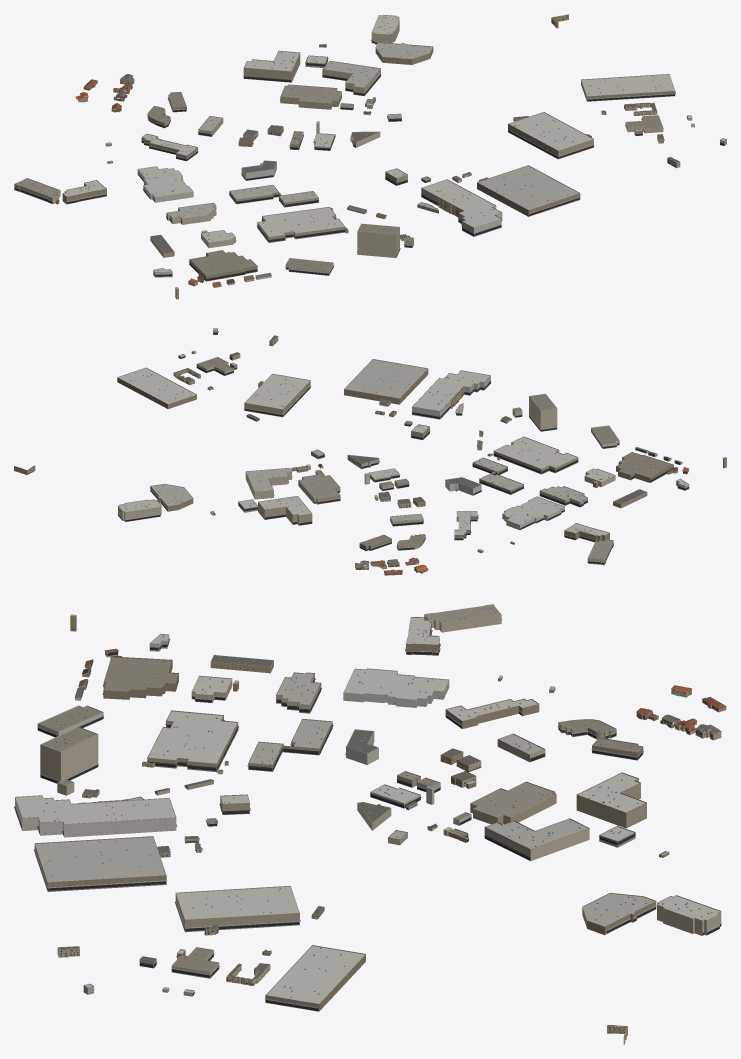
3 renders of one model, top to bottom at view 1: azimuth 30°, elevation 25°; view 2: azimuth 150°, elevation 25°; view 3: azimuth 270°, elevation 25°, orthographic. The views are drawn at different scales.
Visible parts, largest first — view 1: buildings_r3_c6_lod0; view 2: buildings_r3_c6_lod0; view 3: buildings_r3_c6_lod0.
Part boxes in pixels (box(x1,y1,x2,y2)): buildings_r3_c6_lod0: box(14, 14, 726, 299); buildings_r3_c6_lod0: box(14, 328, 726, 575); buildings_r3_c6_lod0: box(14, 604, 726, 1044).
Bounding box in the file's own units: 1164 × 59.76 × 838.
